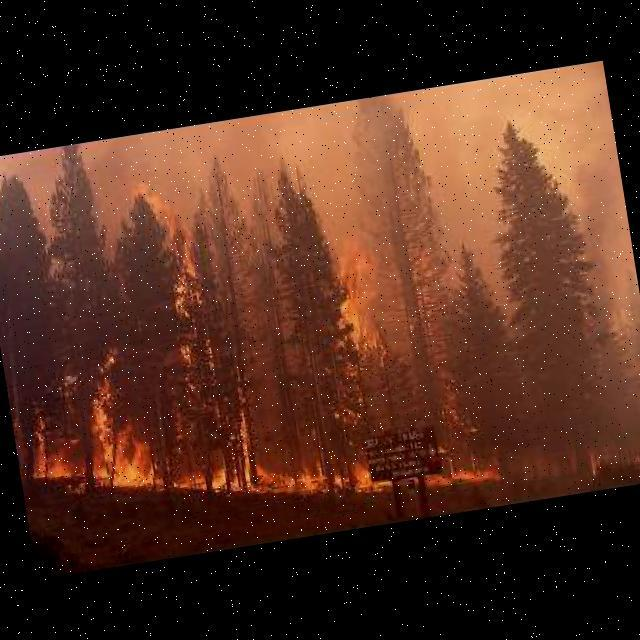Fire: (15, 340, 270, 525), (311, 236, 472, 367), (274, 429, 500, 521), (123, 173, 230, 348)
